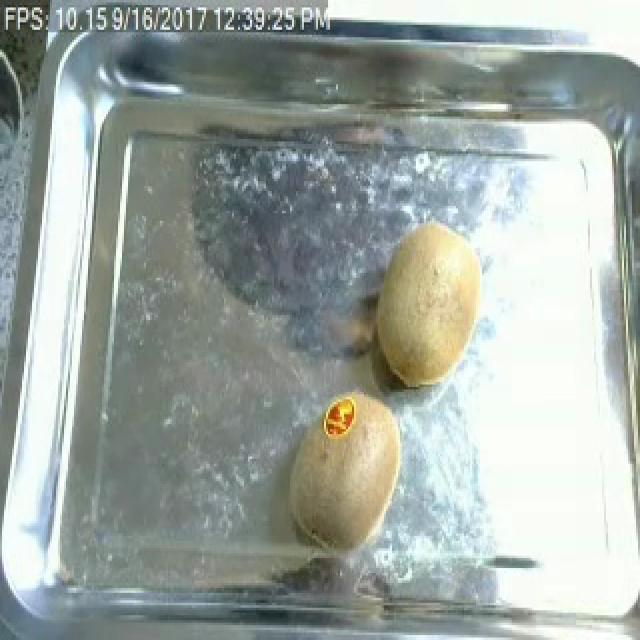Fruit: (278, 385, 410, 558), (370, 213, 490, 392)
